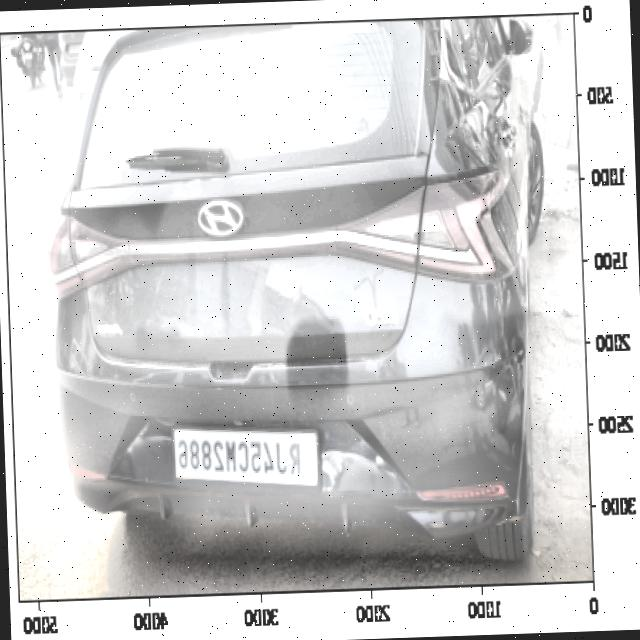license_plate: (174, 429, 307, 488)
